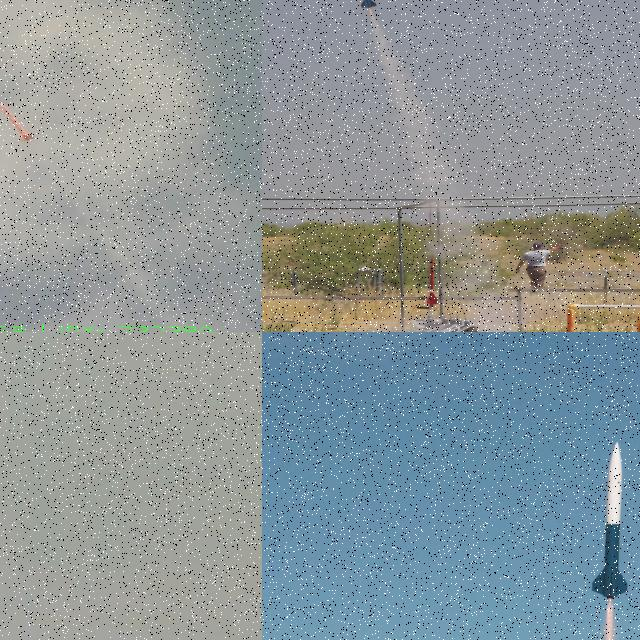Rocket: (591, 441, 630, 599), (0, 95, 36, 144), (426, 258, 439, 308), (550, 242, 564, 249)
